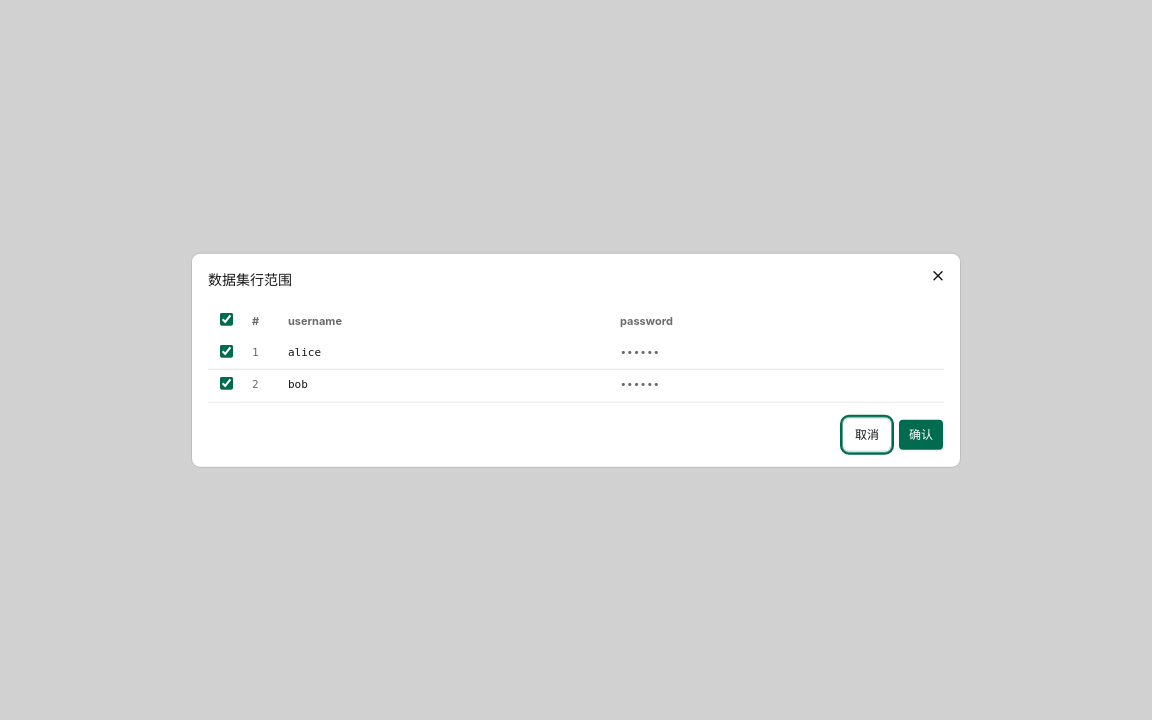
Test: DatasetRowPickerDialog › 手动取消全部勾选 → 确认禁用；表头全选可恢复（回到全部的唯一入口）
The width and height of the screenshot is (1152, 720).
Click the checkbox named "选择第 1 行". click: (226, 351)
box: [220,344,232,357]
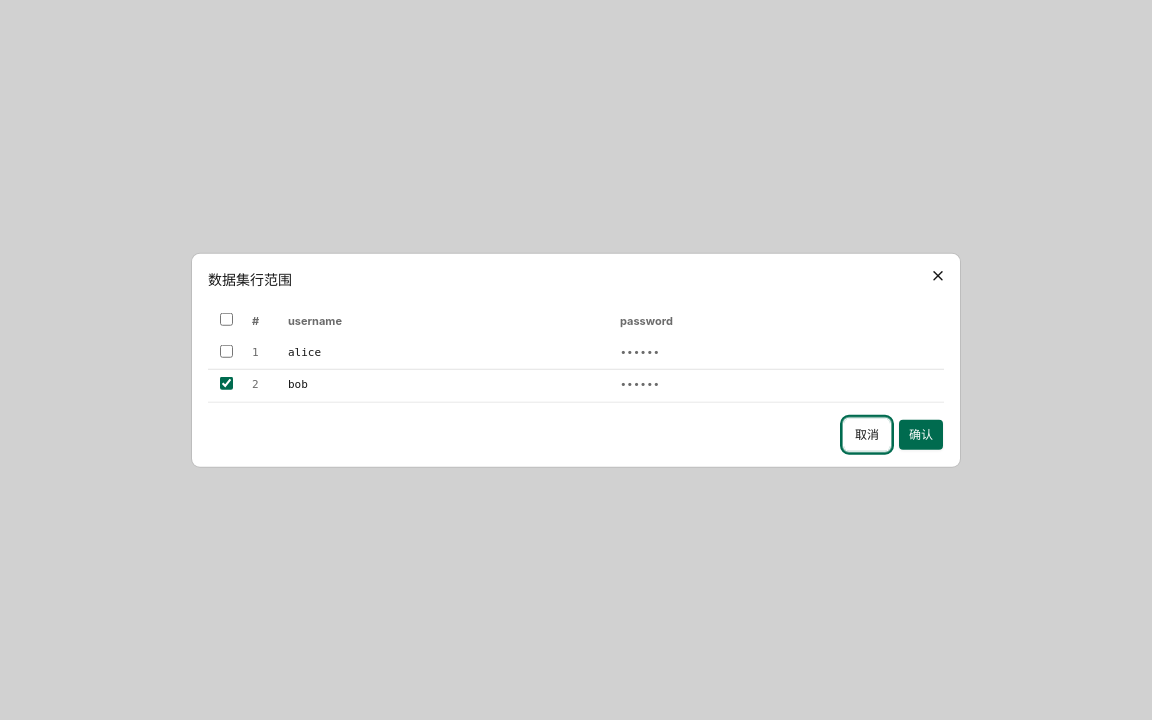
Click the checkbox named "选择第 2 行". click: (226, 383)
box: [220,377,232,390]
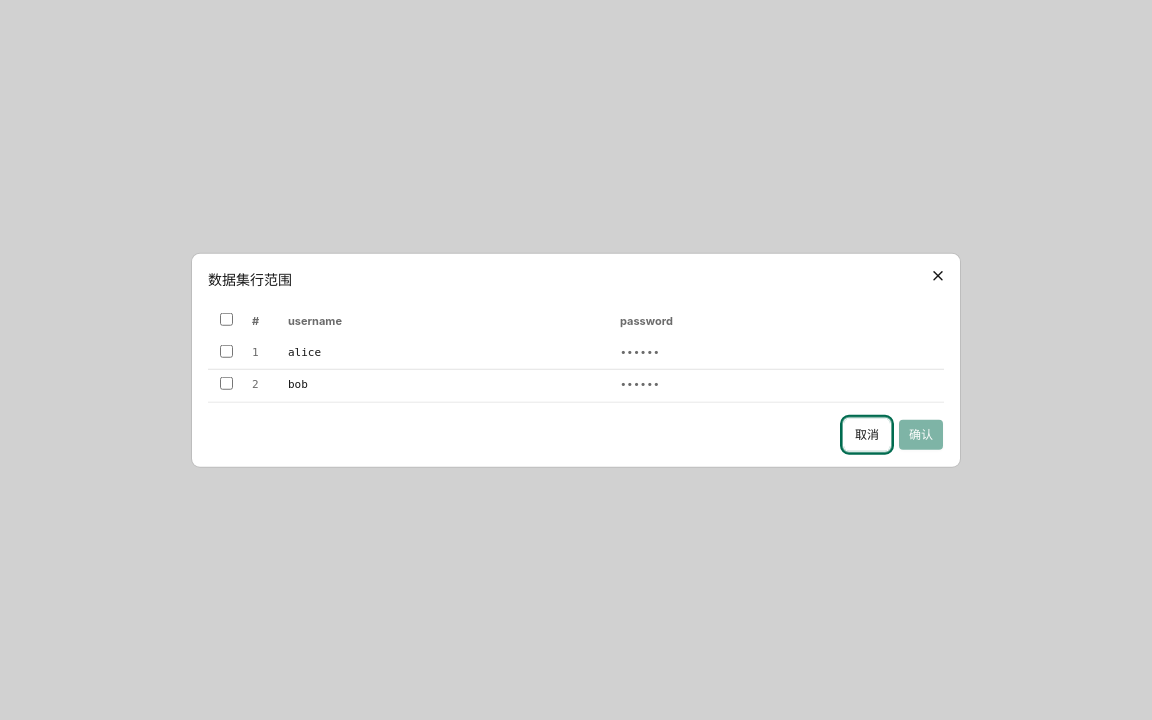
Now the button "确认" is disabled, box [898,418,944,450]
Click the checkbox titled "全选". click: (226, 319)
box: [220,313,232,326]
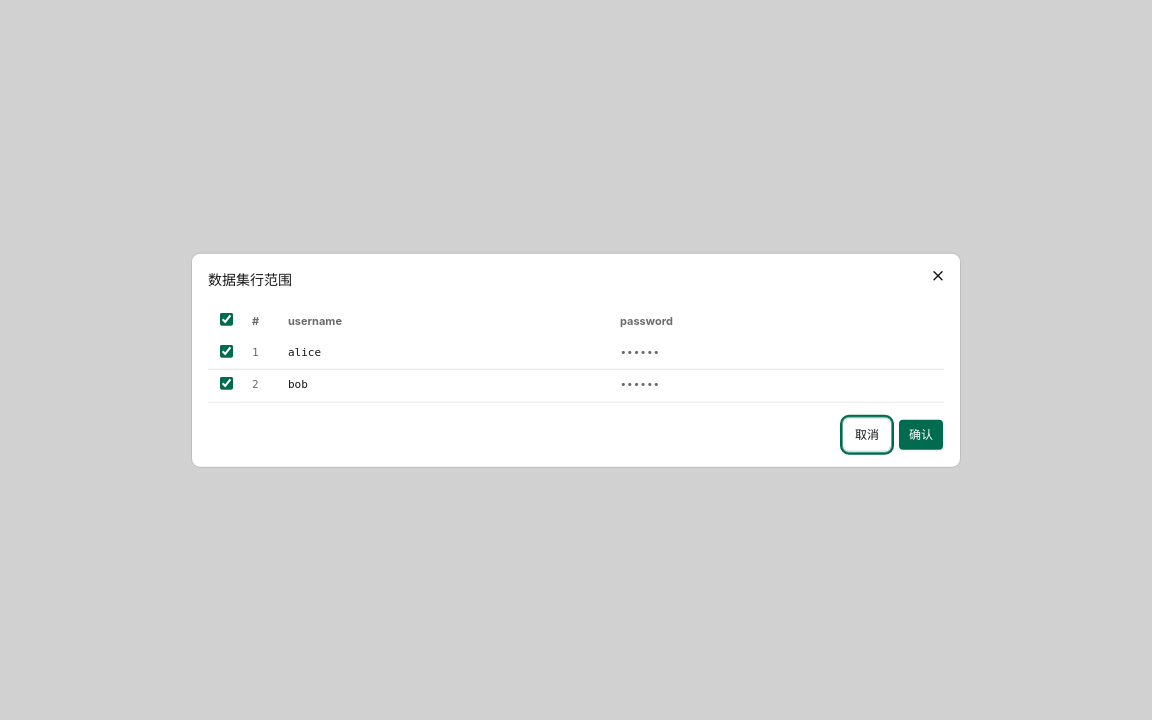
Now the button "确认" is enabled, box [898,418,944,450]
